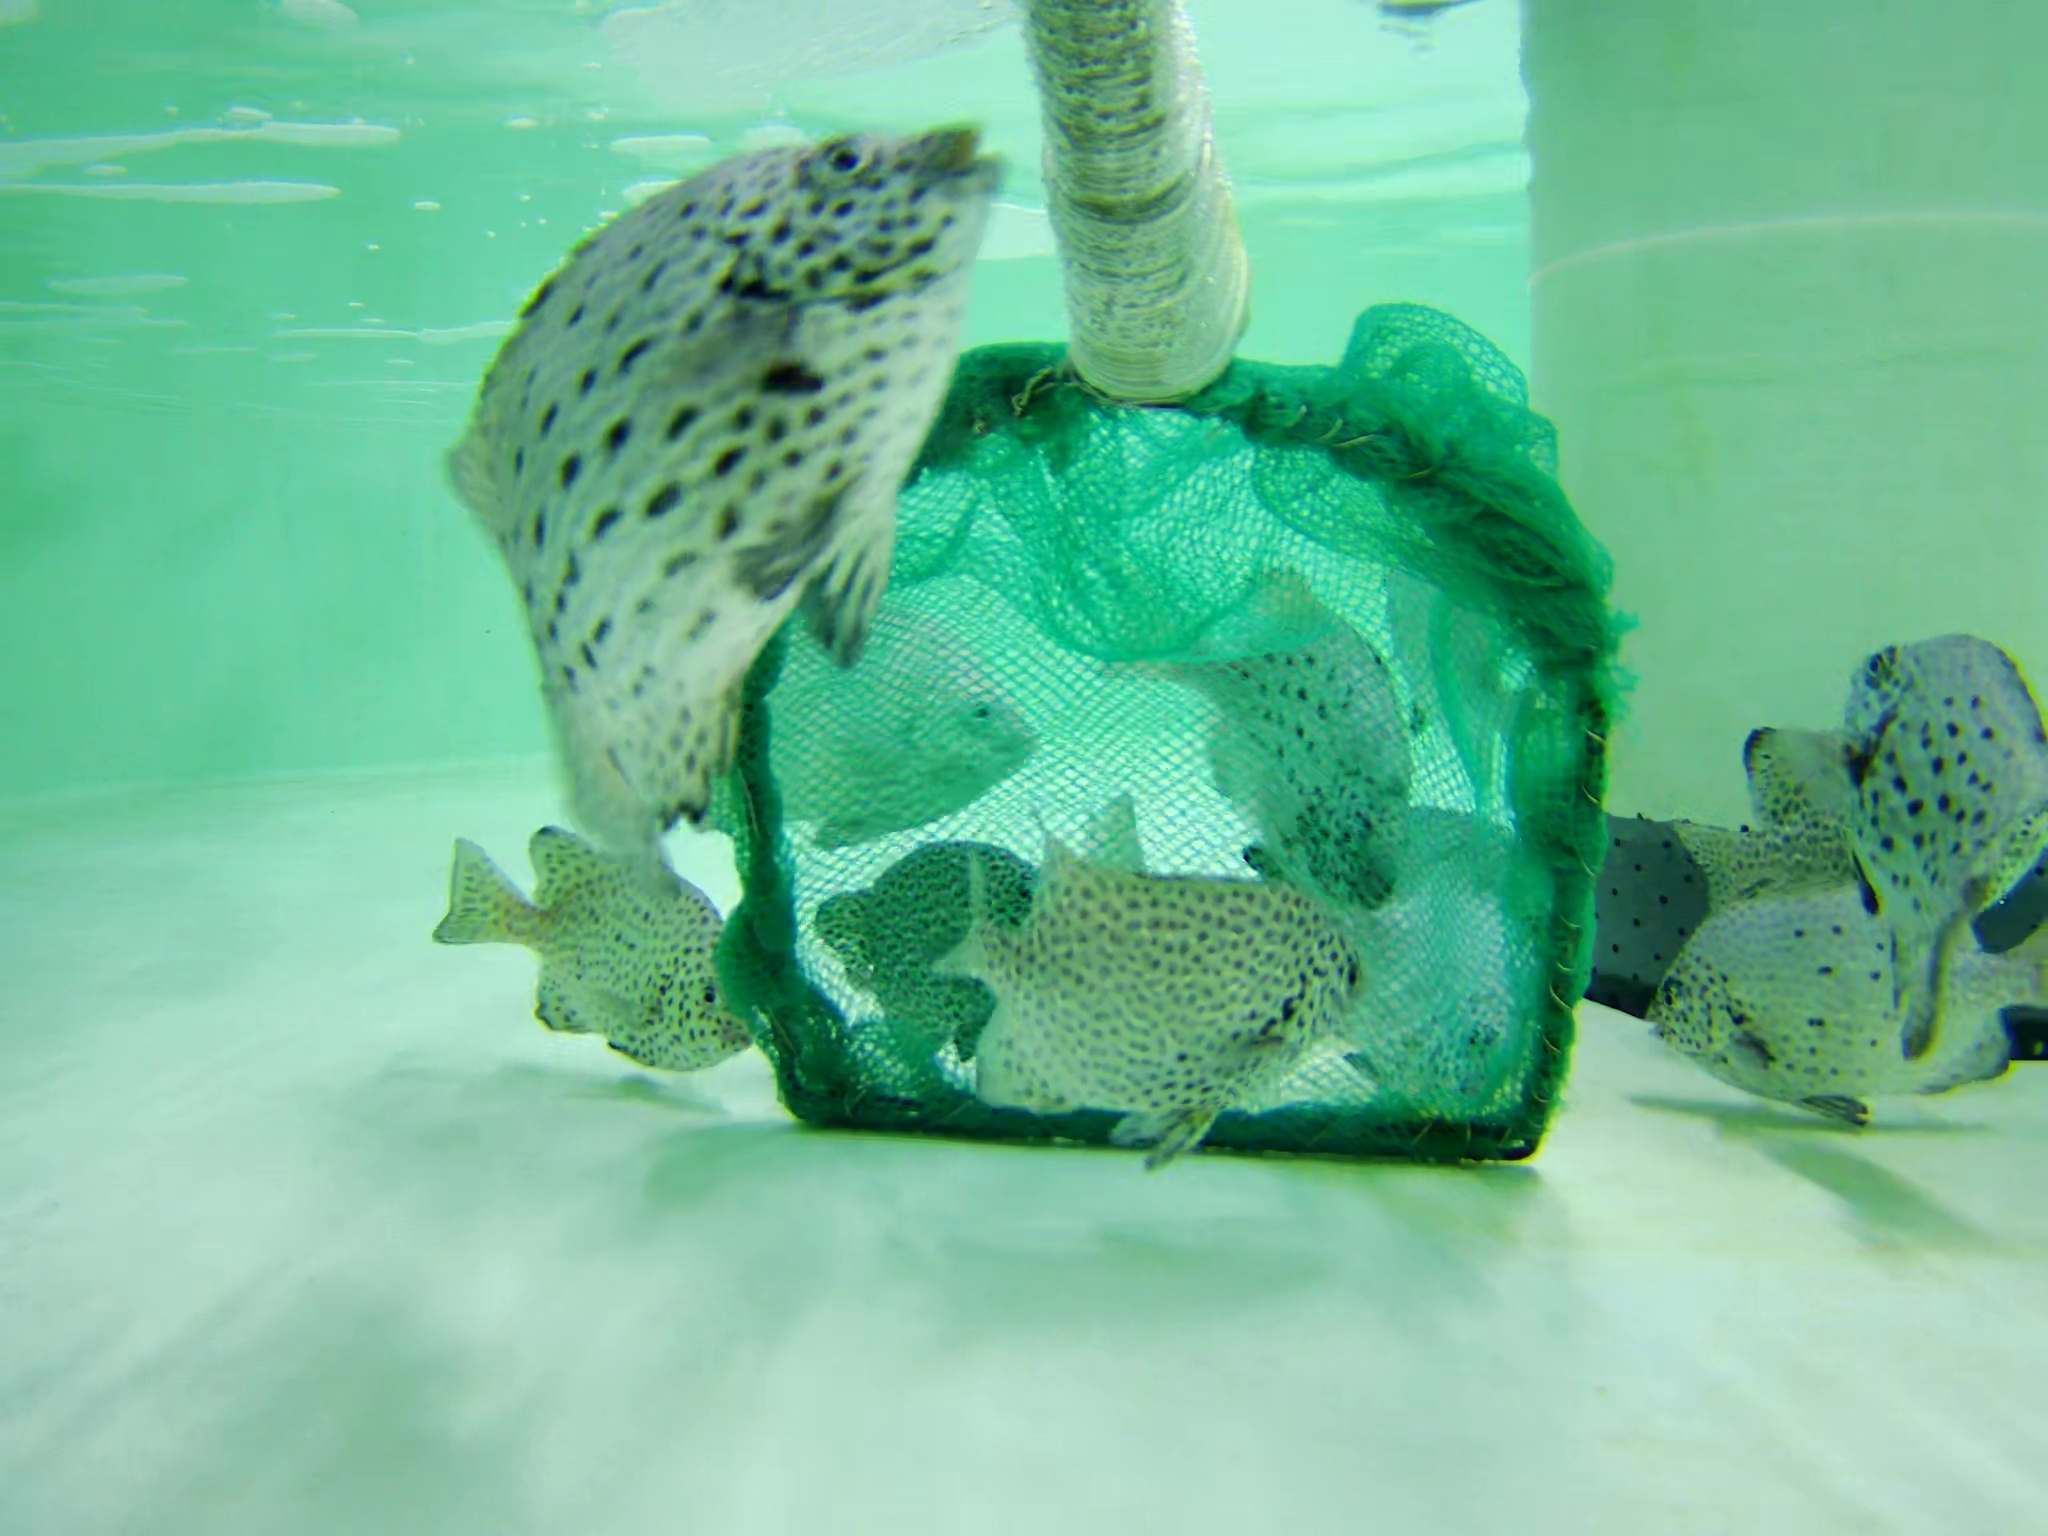fish: (416, 106, 987, 829), (942, 837, 1353, 1150), (1632, 871, 2048, 1125), (1279, 791, 1548, 1139), (1158, 571, 1434, 895), (432, 823, 727, 1071), (1846, 621, 2048, 918), (829, 831, 1053, 1075), (766, 637, 1039, 831), (1729, 700, 1963, 910), (1380, 536, 1553, 818)
